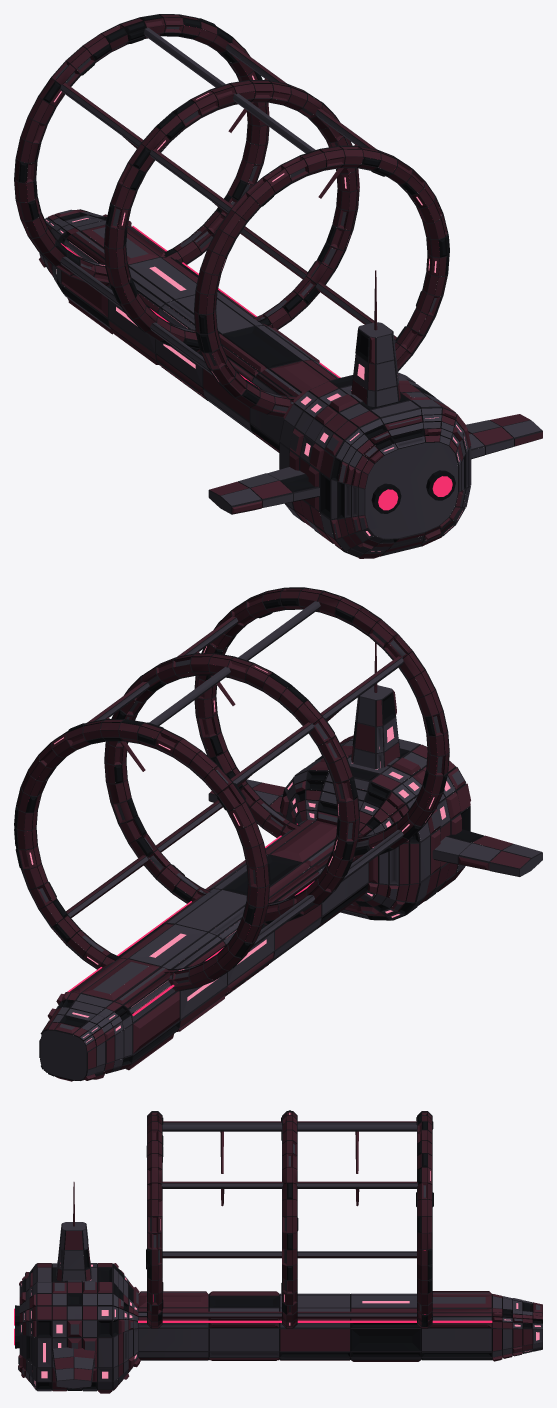
Rendered from forge.glb.
The picture shows the model from 3 angles, top to bottom: view 1: azimuth 30°, elevation 25°; view 2: azimuth 150°, elevation 25°; view 3: azimuth 270°, elevation 25°; orthographic projection. The views are drawn at different scales.
Visible parts, largest first — view 1: forge; view 2: forge; view 3: forge.
Boxes of the visible parts, left/top/right/bottom form: forge: left=14, top=14, right=542, bottom=558; forge: left=14, top=587, right=542, bottom=1081; forge: left=14, top=1110, right=542, bottom=1393.
Size of the model in its own units: 1531 by 1626 by 3000.
